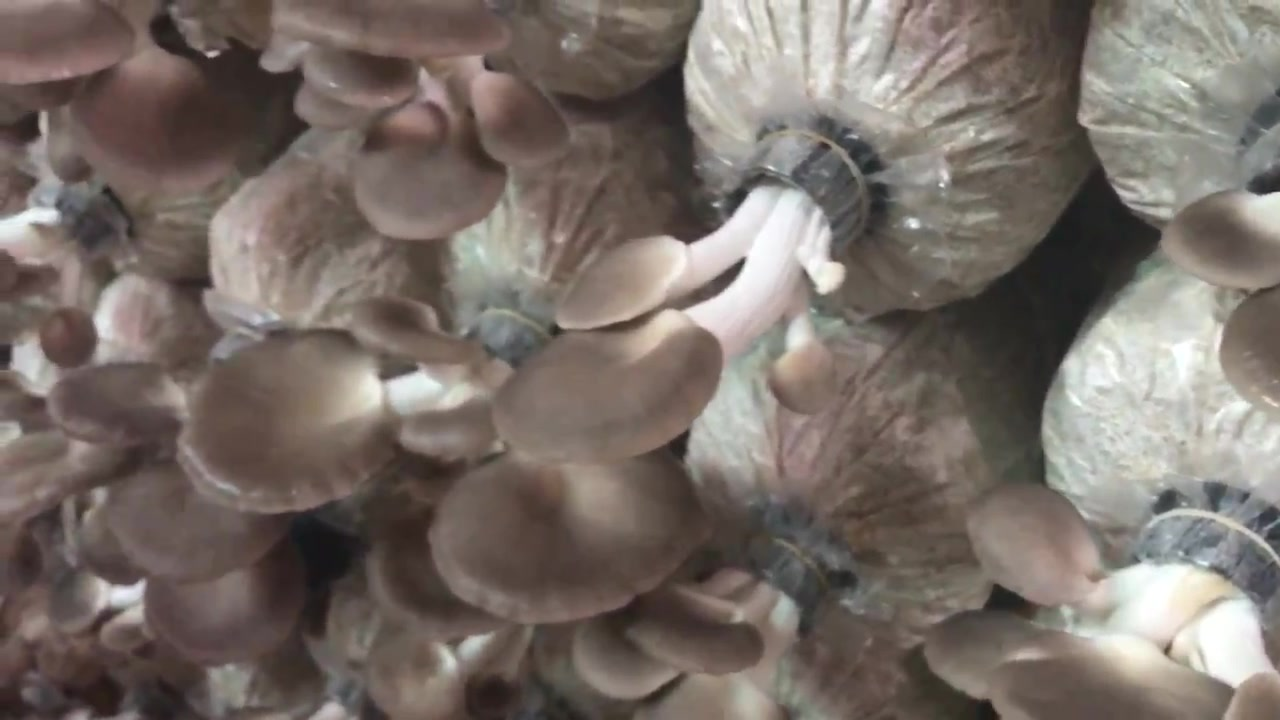nam: (178, 285, 707, 631), (496, 116, 888, 463), (921, 478, 1270, 720), (272, 1, 574, 241), (572, 507, 880, 720)
